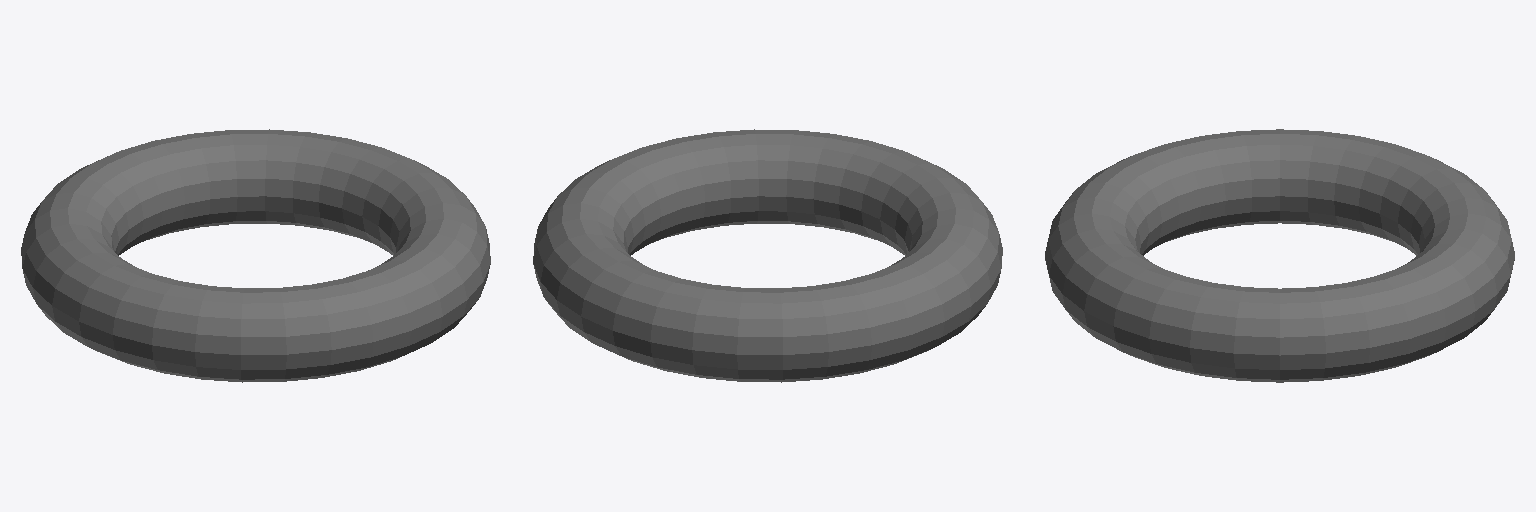
Rendered from 3dring 1.obj.
3 renders of one model, left to right at view 1: azimuth 30°, elevation 25°; view 2: azimuth 150°, elevation 25°; view 3: azimuth 270°, elevation 25°, orthographic.
Visible parts, largest first — view 1: Torus; view 2: Torus; view 3: Torus.
Boxes of the visible parts, box(x1,y1,x2,y2) form: Torus: box(21, 129, 490, 382); Torus: box(533, 129, 1002, 382); Torus: box(1045, 129, 1514, 382).
Bounding box in the file's own units: 500 × 100 × 500.